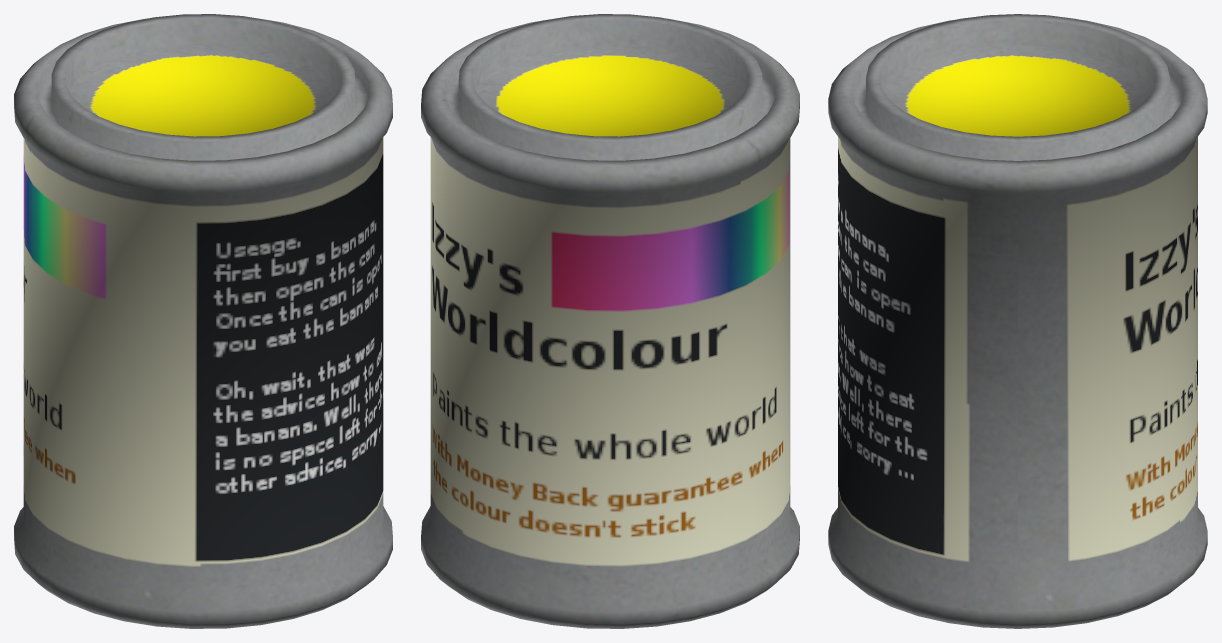
The model's file is colourcan.obj.
The picture shows the model from 3 angles, left to right: view 1: azimuth 30°, elevation 25°; view 2: azimuth 150°, elevation 25°; view 3: azimuth 270°, elevation 25°; orthographic projection.
Parts seen in each view (by area): view 1: Default; view 2: Default; view 3: Default.
Boxes of the visible parts, left/top/right/bottom form: Default: left=14, top=14, right=392, bottom=628; Default: left=421, top=14, right=799, bottom=628; Default: left=828, top=14, right=1207, bottom=628.
Bounding box in the file's own units: 1.37 × 1.89 × 1.37.
1 material, 1 textured.
